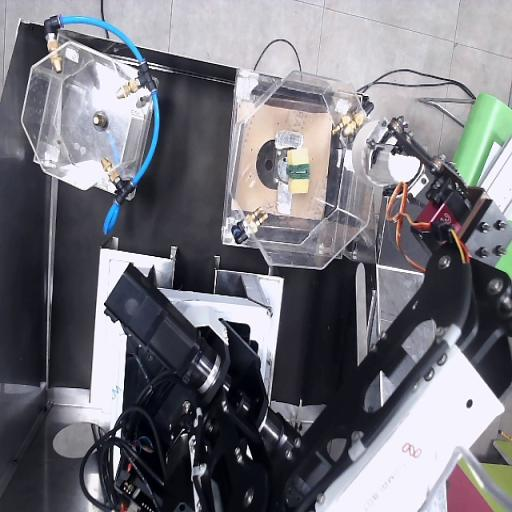cup in wash station: (351, 117, 421, 186)
